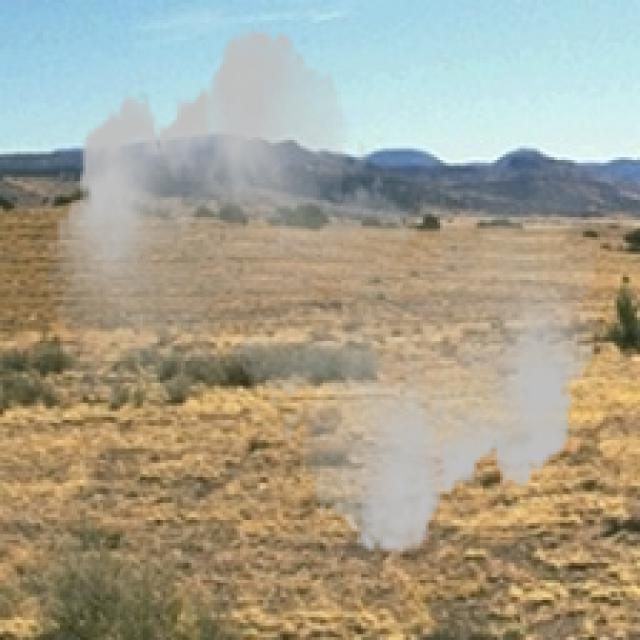Smoke: (48, 11, 603, 572)
